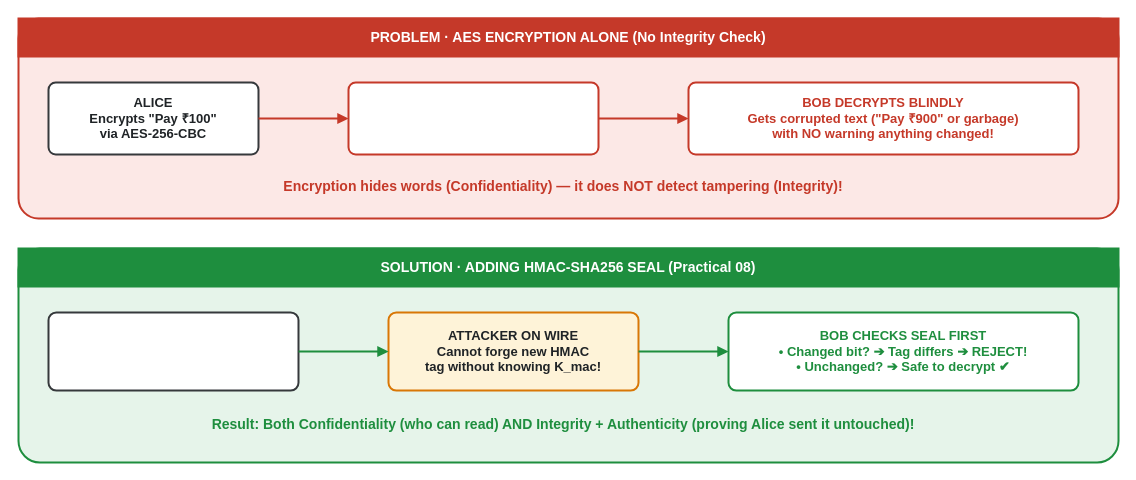
The diagram is 1136 pixels wide and 480 high, and some of its shapes have lost their labels. Here are the shapes that lost their labels. From the top down, the centre of each, then its label:
At (473,118): "ATTACKER ON WIRE Flips 1 ciphertext bit! (Does NOT need AES key)".
At (173,351): "ALICE 1. Locks with AES 2. Adds 32B HMAC Seal (needs secret K_mac)".
